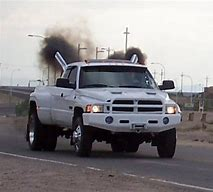smoke: (36, 34, 82, 65), (110, 45, 148, 63)
